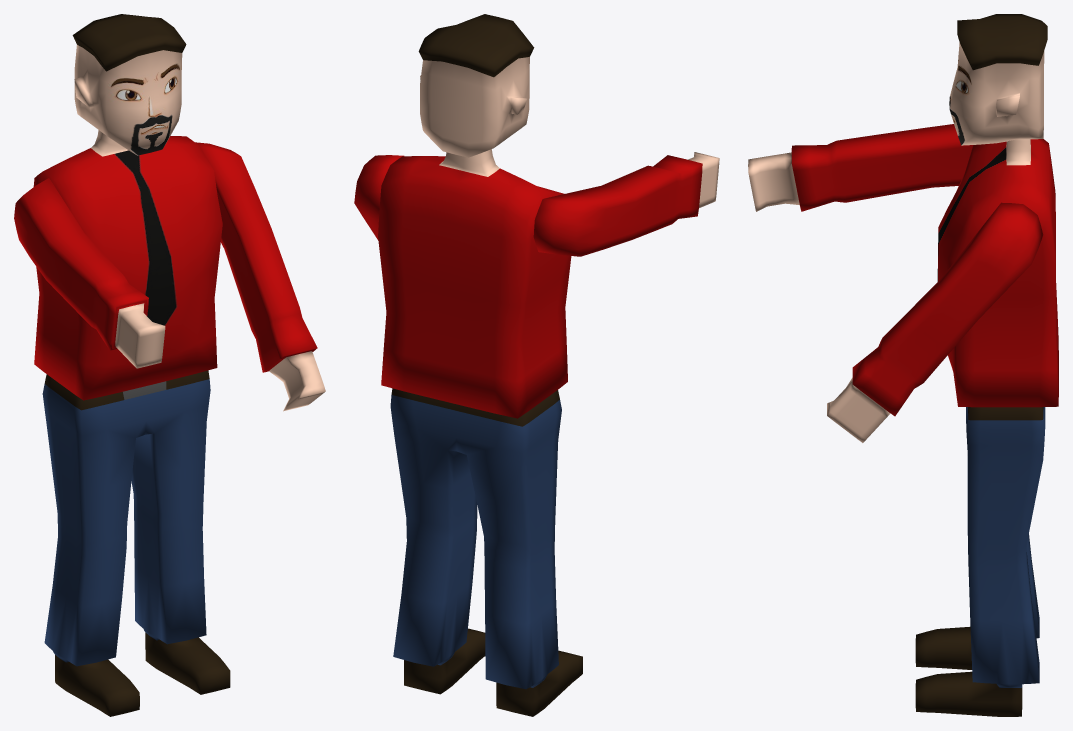
Rendered from Toy 1.FBX.
3 views of the same model, side by side, from view 1: azimuth 30°, elevation 25°; view 2: azimuth 150°, elevation 25°; view 3: azimuth 270°, elevation 25° (orthographic). The views are drawn at different scales.
Parts seen in each view (by area): view 1: toy 1; view 2: toy 1; view 3: toy 1.
Part boxes in pixels (x1,y1,x2,y2): toy 1: [14, 14, 325, 716]; toy 1: [354, 14, 719, 716]; toy 1: [748, 14, 1058, 716].
Bounding box in the file's own units: 6.33 × 16.75 × 7.15.
Materials: 1 (1 with a texture image).
